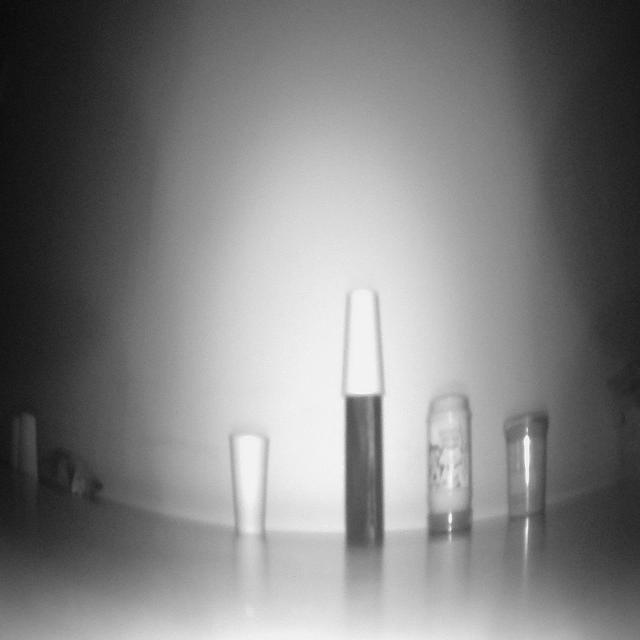targets: (424, 394, 475, 536), (342, 397, 386, 550), (338, 288, 387, 397), (504, 412, 549, 520), (228, 433, 269, 542), (6, 410, 42, 488)
